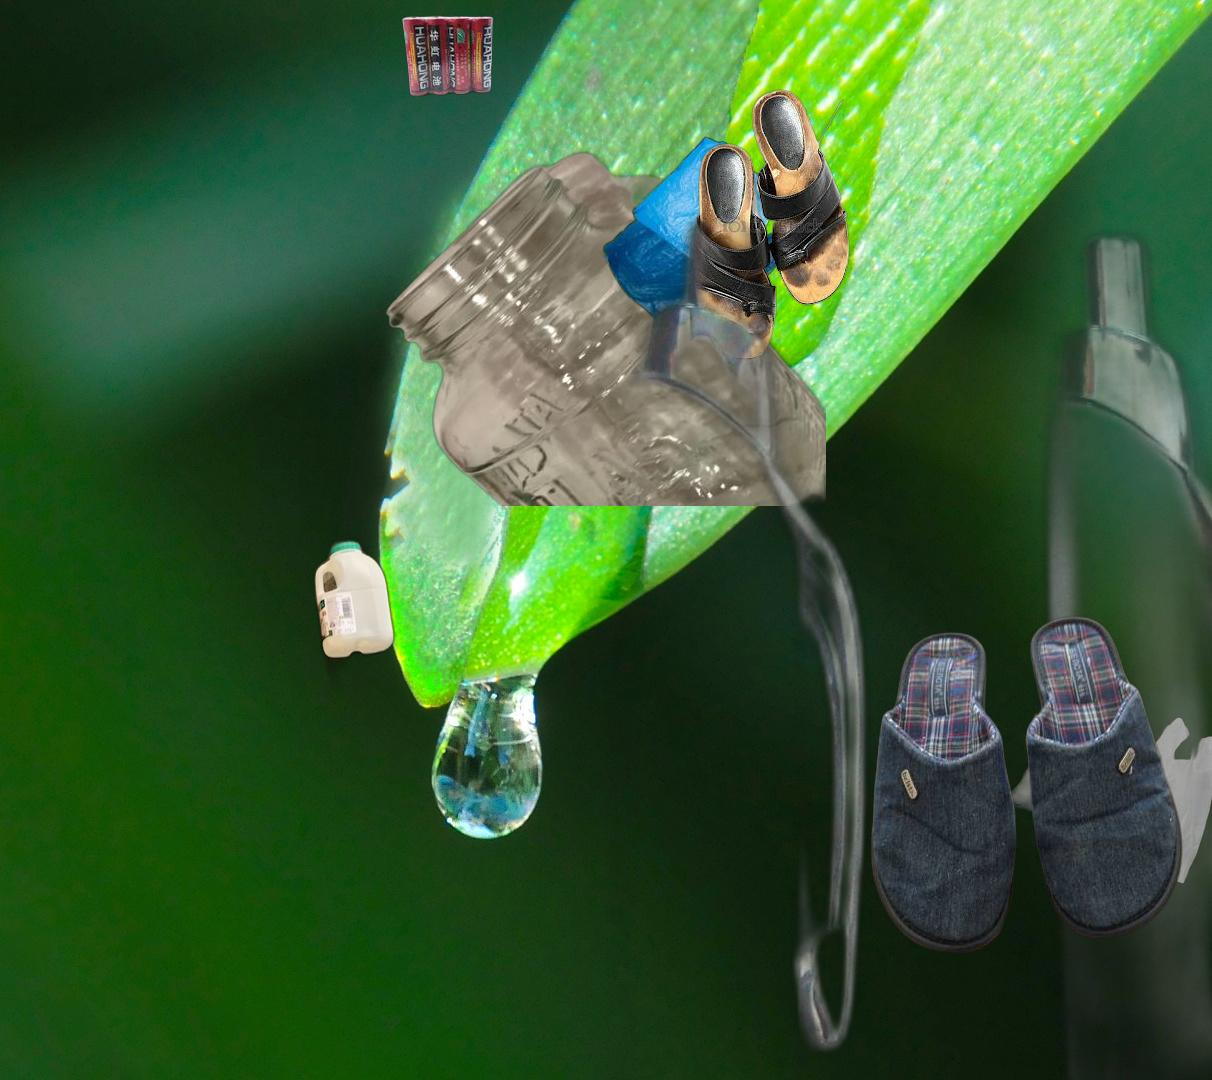battery: (399, 13, 496, 100)
glass: (381, 147, 826, 506)
penholder: (311, 206, 1212, 1080)
plastic-bag: (992, 638, 1212, 886), (597, 136, 816, 332)
plastic-bottles: (310, 534, 399, 709)
shoes: (868, 612, 1186, 957), (691, 87, 852, 363)
